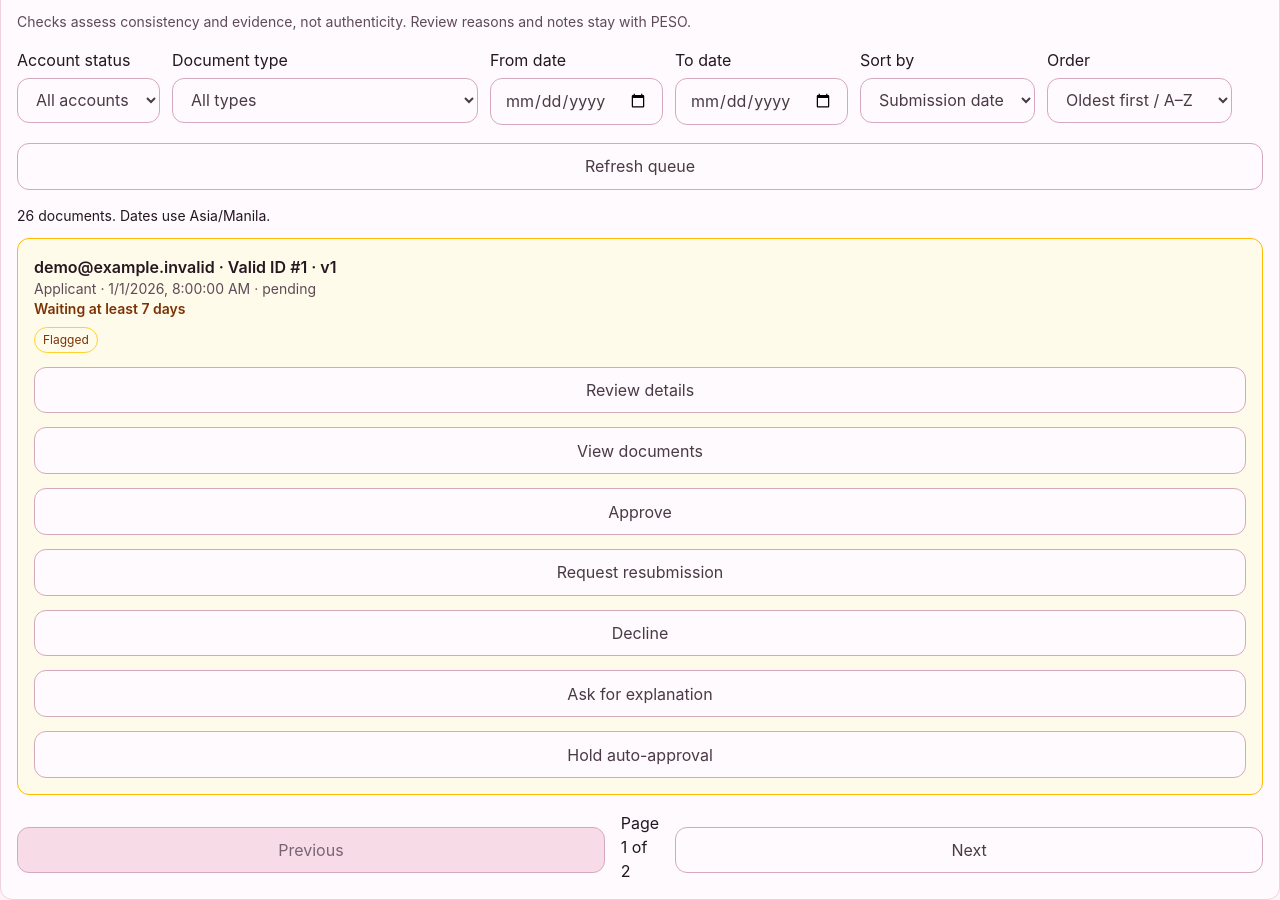
Test: prefills resubmission reasons from field groups without inserting document values
The image size is (1280, 900).
(page scrolled)
Click the button "Request resubmission" at coordinates (640, 572), box [34,549,1246,596]
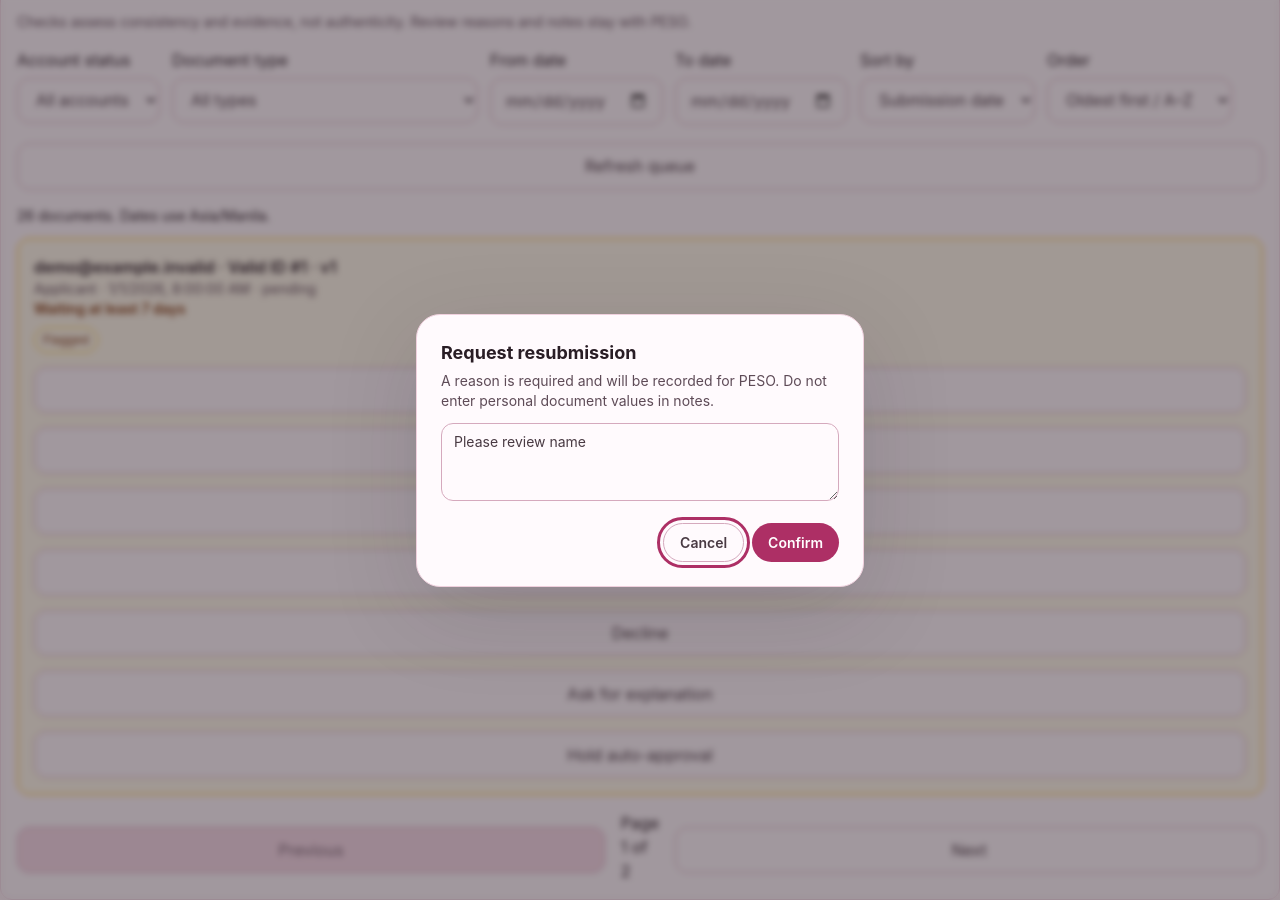
Expected: the text box named "Reason" holds "Please review name", [441,422,839,500]
